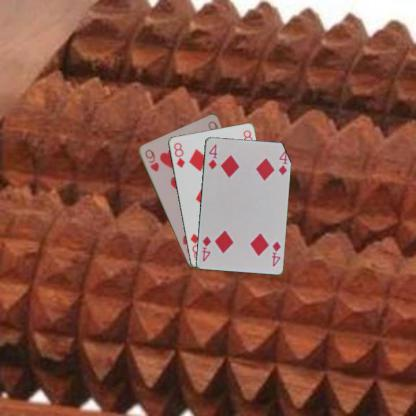4d: (269, 238, 282, 268), (206, 142, 218, 170)
8d: (171, 140, 186, 169)
9h: (142, 147, 160, 173)
